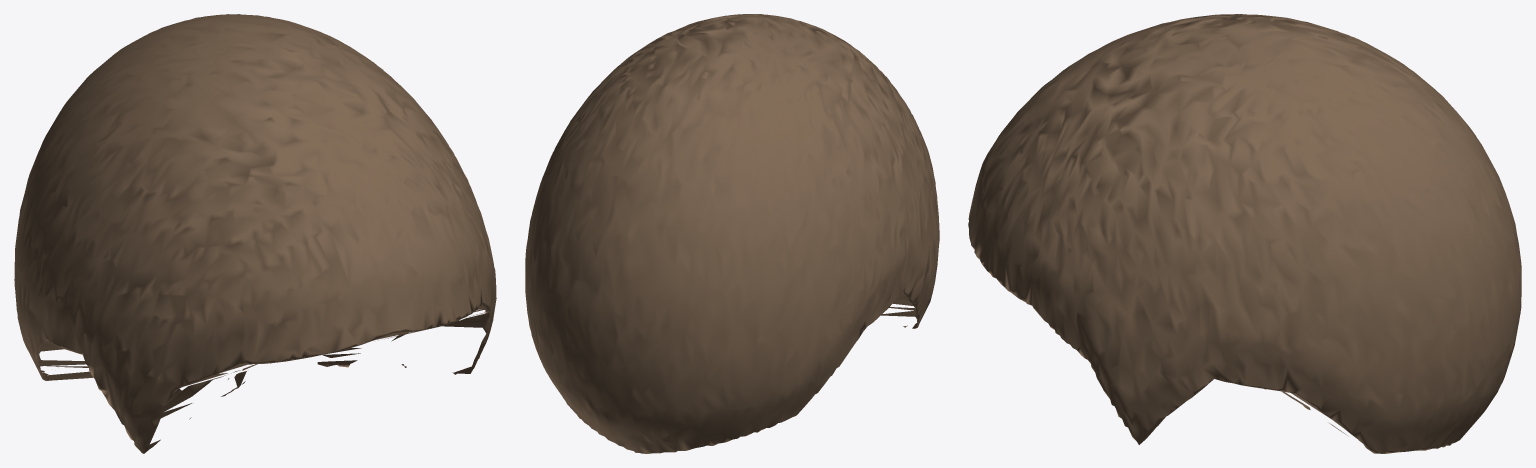
The model's file is hair32-male-buzz.glb.
The picture shows the model from 3 angles, left to right: view 1: azimuth 30°, elevation 25°; view 2: azimuth 150°, elevation 25°; view 3: azimuth 270°, elevation 25°; orthographic projection. The views are drawn at different scales.
Parts seen in each view (by area): view 1: hair32-buzz; view 2: hair32-buzz; view 3: hair32-buzz.
Part boxes in pixels (bbox=[...]): hair32-buzz: bbox=[14, 14, 496, 453]; hair32-buzz: bbox=[525, 14, 939, 453]; hair32-buzz: bbox=[968, 14, 1521, 453].
Size of the model in its own units: 0.1593 by 0.1601 by 0.2007.
